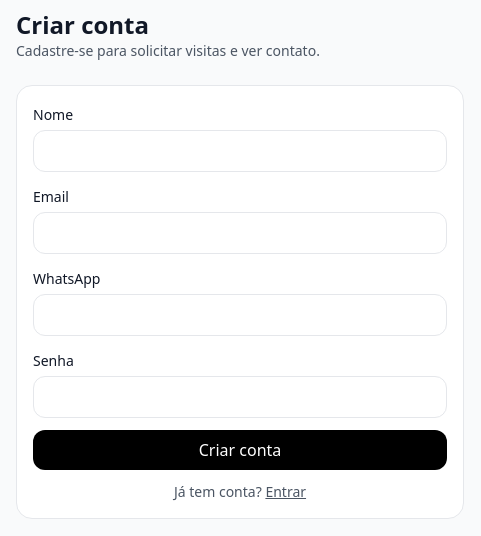
Scenario: Register page › desabilita botao enquanto request esta em andamento
Type "Maria" into the field labelled "Nome". click: (240, 151)
box: [33,130,447,172]
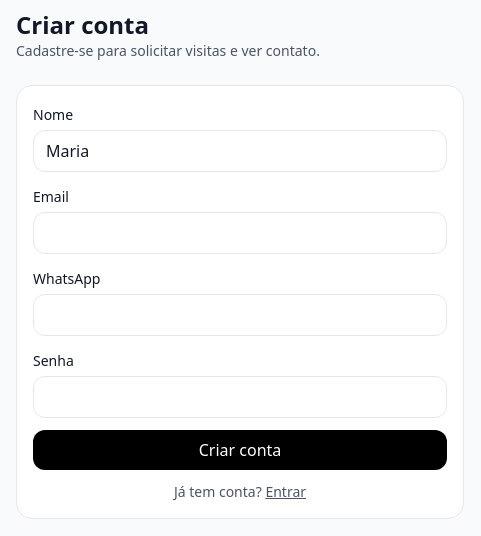
Type "maria@example.com" into the field labelled "Email". click: (240, 233)
box: [33,212,447,254]
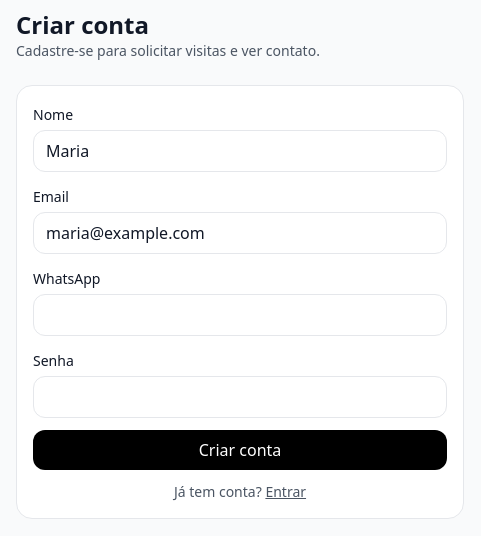
Type "41999999999" into the field labelled "WhatsApp". click: (240, 315)
box: [33,294,447,336]
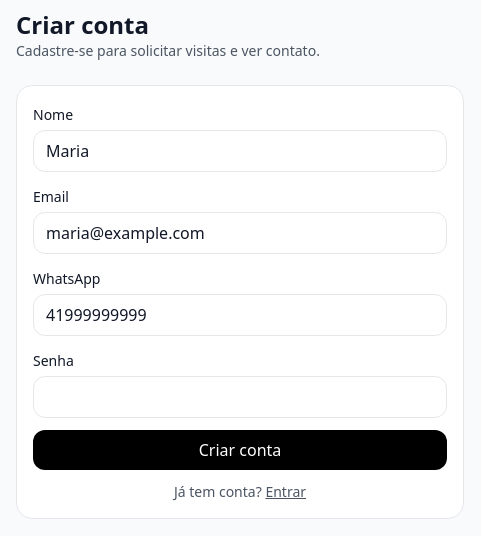
Type "123456" into the password field labelled "Senha". click: (240, 397)
box: [33,376,447,418]
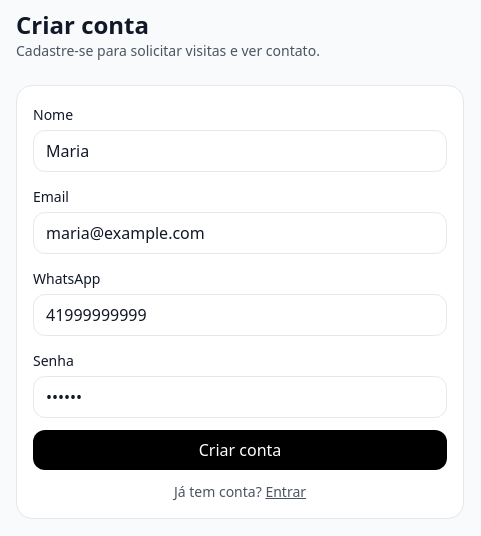
Click the button "Criar conta". click: (240, 450)
box: [33,430,447,470]
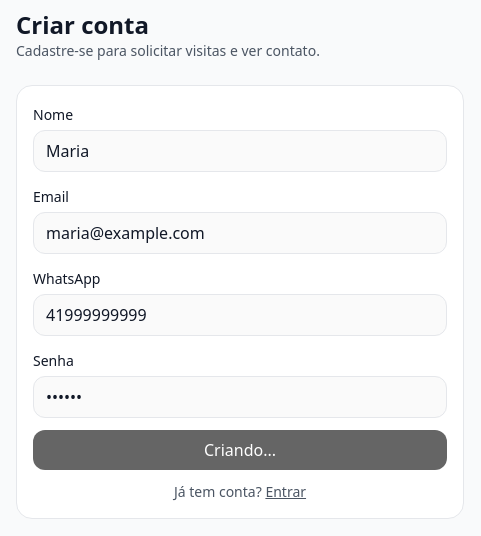
Expected: the button named "criar conta" is disabled, [33,430,447,470]
Expected: the button named "criar conta" reads "Criando...", [33,430,447,470]
